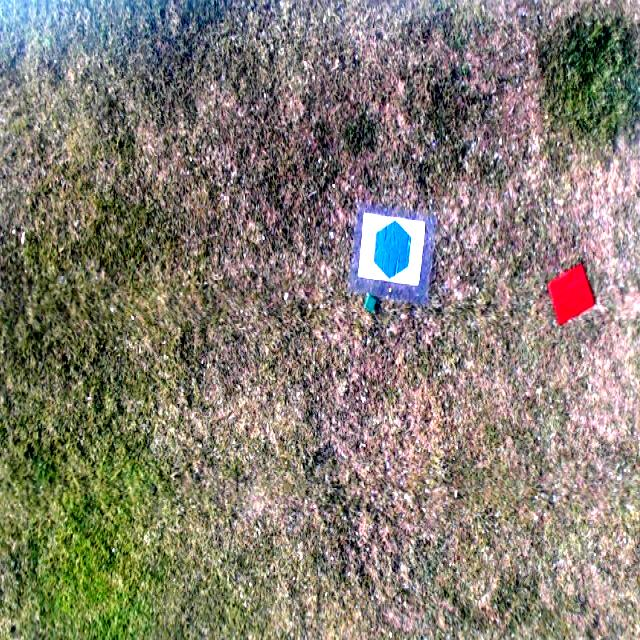blue_hexagon: (372, 217, 413, 286)
red_square: (548, 260, 597, 330)
